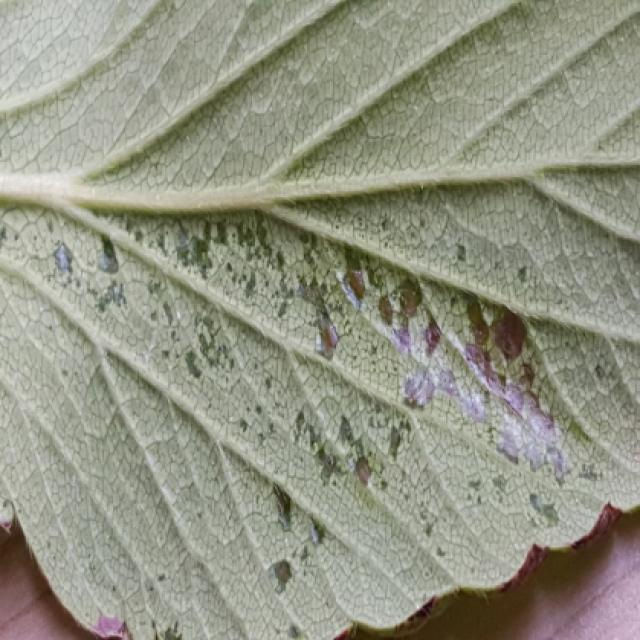Angular Leafspot: (2, 190, 640, 638)
